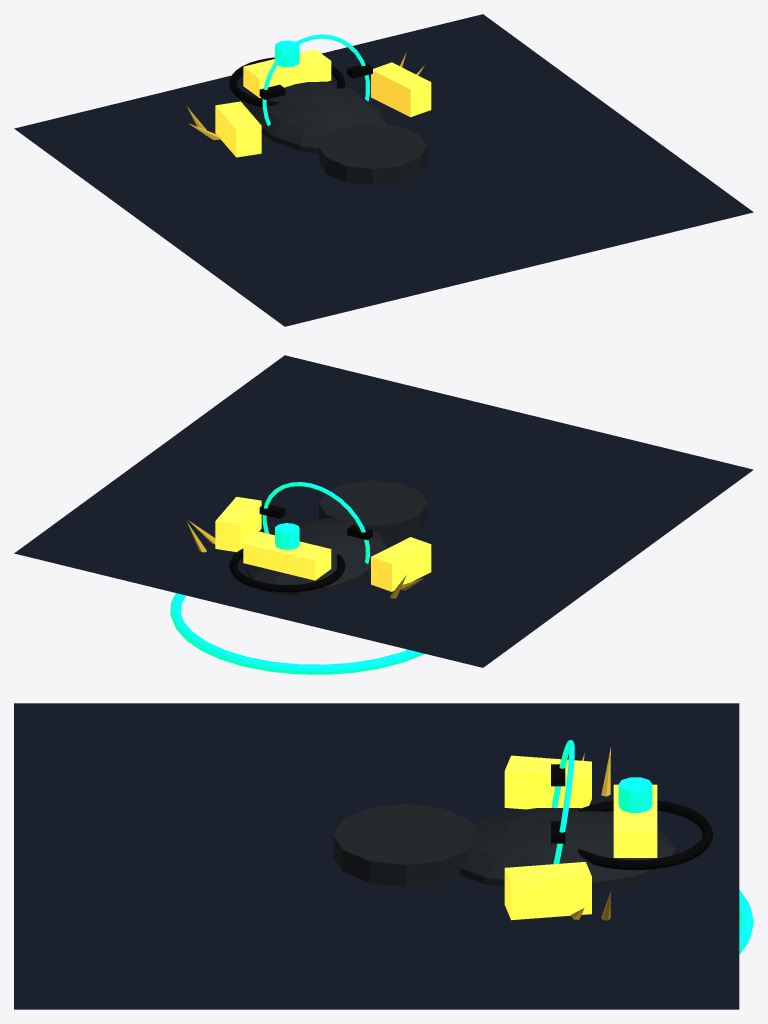
Rendered from avatar_dou.glb.
The picture shows the model from 3 angles, top to bottom: view 1: azimuth 30°, elevation 25°; view 2: azimuth 150°, elevation 25°; view 3: azimuth 270°, elevation 25°; orthographic projection. The views are drawn at different scales.
Visible parts, largest first — view 1: SOL, MASQUE, SOCLE, JOUE_D, FRONT, JOUE_G, LISERE, ANNEAU_KANJI; view 2: SOL, SOCLE, MASQUE, ANNEAU_MND, FRONT, JOUE_G, JOUE_D, ANNEAU_KANJI, LISERE, POINT_MND; view 3: SOL, SOCLE, MASQUE, JOUE_D, JOUE_G, ANNEAU_KANJI, FRONT, POINT_MND, LISERE, ANNEAU_MND.
Boxes of the visible parts, x1=… form: SOL: x1=14, y1=14, x2=753, y2=326; MASQUE: x1=246, y1=81, x2=386, y2=153; SOCLE: x1=319, y1=123, x2=427, y2=185; JOUE_D: x1=371, y1=62, x2=431, y2=117; FRONT: x1=243, y1=49, x2=331, y2=97; JOUE_G: x1=215, y1=101, x2=261, y2=157; LISERE: x1=262, y1=34, x2=369, y2=125; ANNEAU_KANJI: x1=229, y1=57, x2=345, y2=107; SOL: x1=14, y1=355, x2=753, y2=667; SOCLE: x1=319, y1=480, x2=427, y2=540; MASQUE: x1=246, y1=518, x2=386, y2=595; ANNEAU_MND: x1=170, y1=593, x2=424, y2=674; FRONT: x1=243, y1=531, x2=331, y2=580; JOUE_G: x1=371, y1=537, x2=431, y2=591; JOUE_D: x1=215, y1=496, x2=261, y2=552; ANNEAU_KANJI: x1=229, y1=548, x2=345, y2=592; LISERE: x1=262, y1=482, x2=369, y2=563; POINT_MND: x1=275, y1=523, x2=299, y2=549; SOL: x1=14, y1=703, x2=739, y2=1009; SOCLE: x1=333, y1=804, x2=474, y2=886; MASQUE: x1=460, y1=808, x2=675, y2=890; JOUE_D: x1=504, y1=862, x2=591, y2=920; JOUE_G: x1=504, y1=755, x2=591, y2=809; ANNEAU_KANJI: x1=578, y1=800, x2=713, y2=870; FRONT: x1=613, y1=784, x2=657, y2=857; POINT_MND: x1=618, y1=777, x2=652, y2=812; LISERE: x1=551, y1=740, x2=574, y2=864; ANNEAU_MND: x1=739, y1=890, x2=753, y2=954.
Size of the model in its own units: 6 by 1.65 by 6.12.
